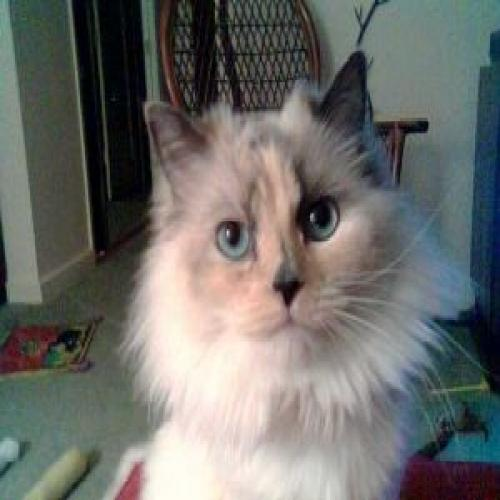ragdoll: (137, 49, 402, 381)
